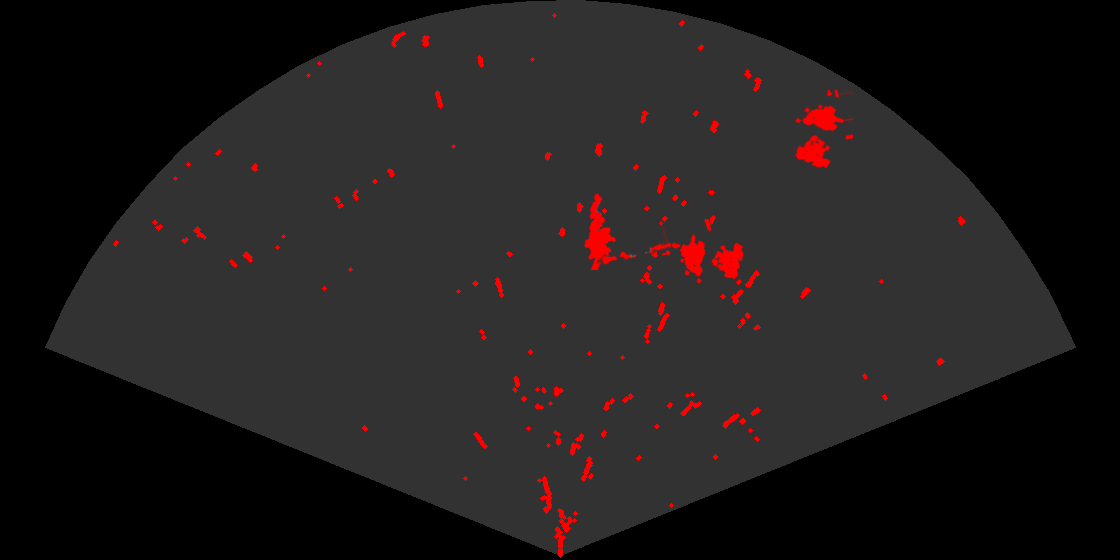cage: (662, 219, 745, 285), (793, 90, 853, 170)
chain: (597, 241, 683, 266)
frogman: (583, 192, 618, 270)
